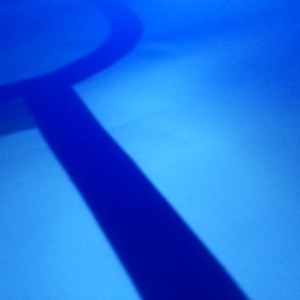bottom_left: (1, 84, 72, 136)
